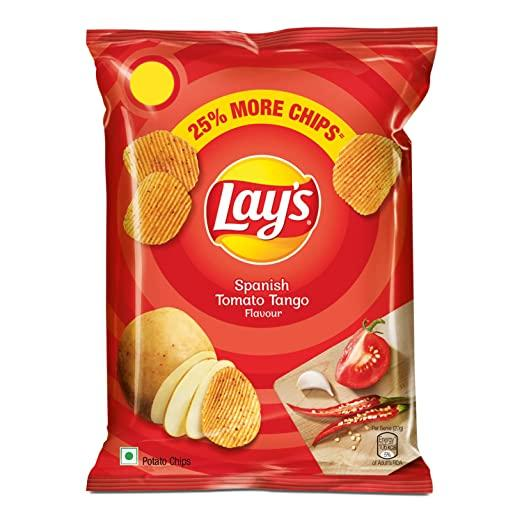Lays: (83, 28, 442, 499)
